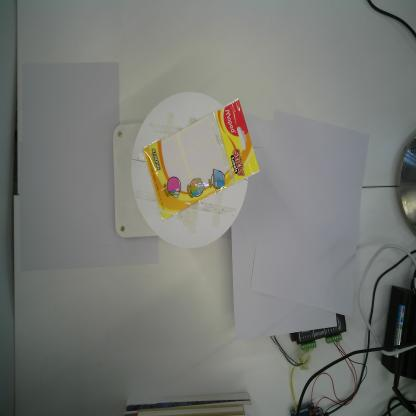Stationery: (142, 98, 260, 221)
